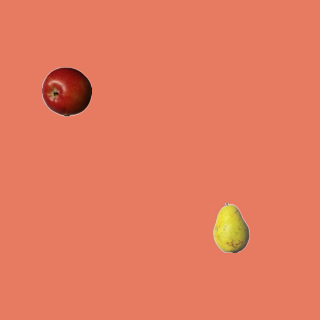Apple Braeburn: (41, 66, 91, 116)
Pear Monster: (206, 202, 256, 252)
